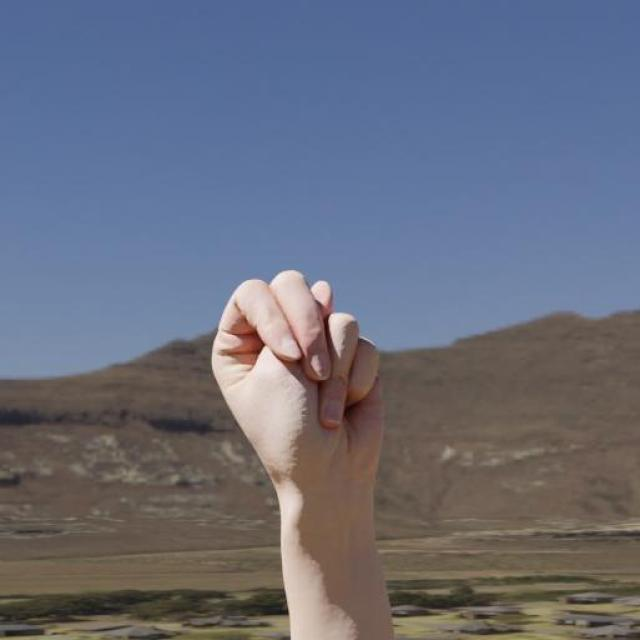N: (208, 266, 390, 495)
